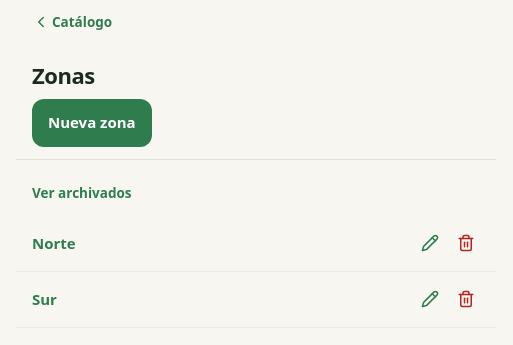
Test: ZonesListScreen (ABM genérico) › navigates to edit when clicking anywhere on the row
The image size is (513, 345).
Step 1. Click the link "Sur" → [44, 299], box left=32, top=289, right=57, bottom=309
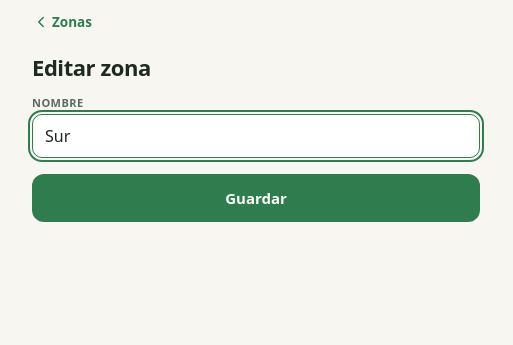
Result: the field showing "Sur" is shown at left=32, top=114, right=480, bottom=158
